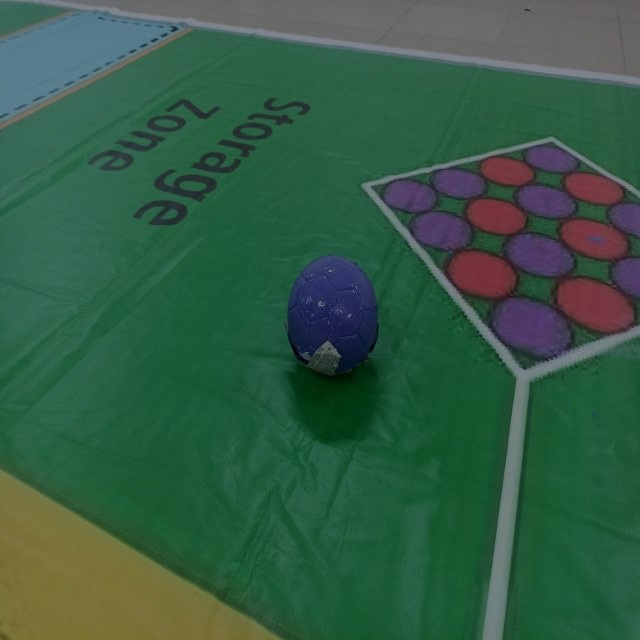purple_ball: (284, 245, 393, 388)
